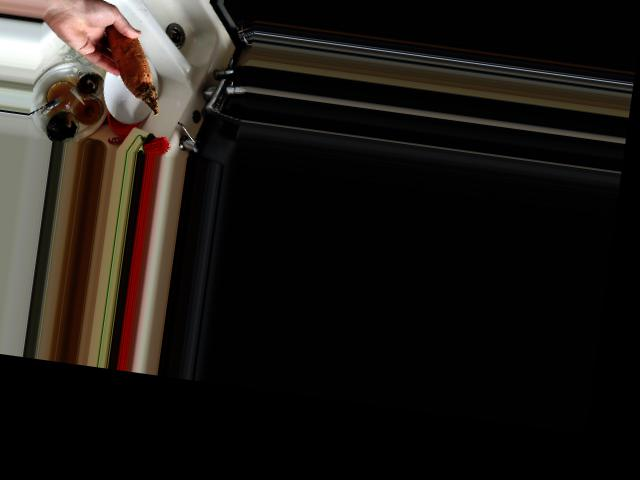sweet_potato: (90, 16, 170, 117)
